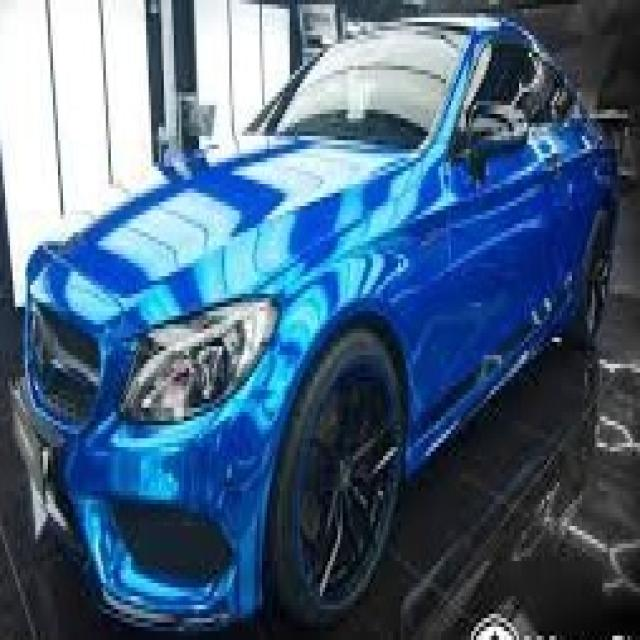blue: (12, 0, 638, 640)
